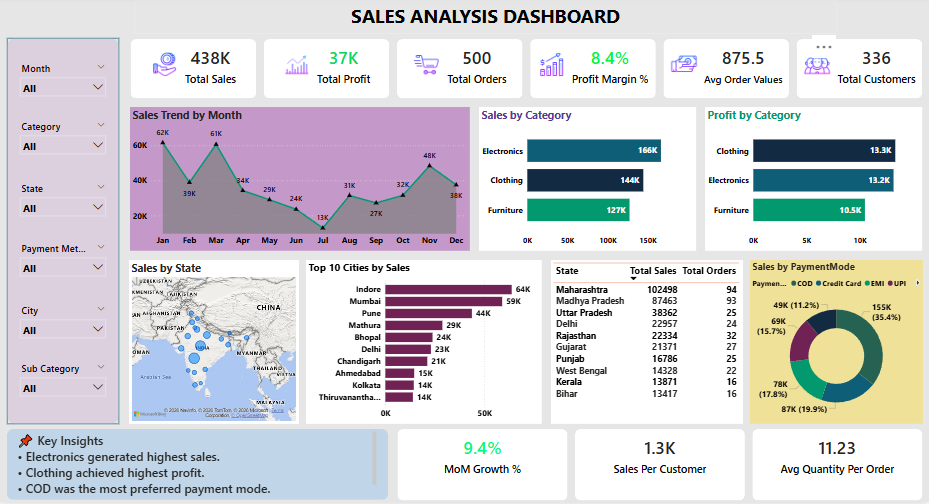

This screenshot's page, from the dashboard's own definition file:
{"tool":"powerbi","page":{"name":"Page 1","canvas":[1850,1000],"ordinal":0},"visuals":[{"type":"cardVisual","fields":{"Data":["Details.Total Sales","Details.Total Profit","Details.Total Orders","Details.Profit Margin %","Details.Avg Order Values","Orders (2).Total Customers"]},"box":[256.6,67.6,1585.4,133.3],"z":0},{"type":"textbox","box":[268.5,0,1398.4,67.6],"z":1000},{"type":"shape","box":[15.9,75.6,222.8,767.8],"z":2000},{"type":"slicer","fields":{"Values":["Calender.Month Name"]},"box":[31.8,117.4,191,83.5],"z":3000},{"type":"slicer","fields":{"Values":["Details.Category"]},"box":[31.8,232.7,191,83.5],"z":4000},{"type":"slicer","fields":{"Values":["Orders (2).State"]},"box":[31.8,356.1,191,83.5],"z":5000},{"type":"slicer","fields":{"Values":["Details.PaymentMode"]},"box":[31.8,475.4,191,83.5],"z":6000},{"type":"slicer","fields":{"Values":["Orders (2).City"]},"box":[31.8,598.8,191,83.5],"z":7000},{"type":"areaChart","title":"Sales Trend by Month","fields":{"Category":["Calender.Month Name"],"Y":["Sum(Details.Amount)"]},"box":[260.6,212.8,676.3,286.5],"z":8000},{"type":"clusteredBarChart","title":"Profit by Category","fields":{"Category":["Details.Category"],"Y":["Sum(Details.Profit)"]},"box":[1404.4,212.8,431.7,286.5],"z":9000},{"type":"clusteredBarChart","title":"Sales by Category","fields":{"Category":["Details.Category"],"Y":["Sum(Details.Amount)"]},"box":[954.8,212.8,431.7,286.5],"z":10000},{"type":"map","title":"Sales by State","fields":{"Category":["Orders (2).State"],"Size":["Sum(Details.Amount)"]},"box":[258.6,517.2,338.2,326.2],"z":11000},{"type":"clusteredBarChart","title":"Top 10 Cities by Sales","fields":{"Category":["Orders (2).City"],"Y":["Sum(Details.Amount)"]},"box":[610.7,517.2,469.5,326.2],"z":12000},{"type":"pivotTable","fields":{"Rows":["Orders (2).State"],"Values":["Details.Total Sales","Details.Total Orders"]},"box":[1098.1,517.2,381.9,326.2],"z":13000},{"type":"donutChart","title":" Sales by PaymentMode","fields":{"Category":["Details.PaymentMode"],"Y":["Details.Total Sales"]},"box":[1493.9,517.2,344.1,326.2],"z":14000},{"type":"cardVisual","fields":{"Data":["Details.MoM Growth %","Details.Sales Per Customer","Details.Avg Quantity Per Order"]},"box":[787.7,843.4,1054.3,157.2],"z":15000},{"type":"slicer","fields":{"Values":["Details.Sub-Category"]},"box":[31.8,714.1,191,83.5],"z":16000},{"type":"shape","box":[15.9,853.4,757.9,141.2],"z":17000},{"type":"textbox","box":[31.8,853.4,724.1,141.2],"z":18000}]}

Visuals, with their boxes in screenshot pixels (x1, y1, x2, y2), scaled from the page's 1850x1000 canvas onto the 929x504 screenshot:
cardVisual - Details.Total Sales x Details.Total Profit: select_region(129, 34, 925, 101)
textbox: select_region(135, 0, 837, 34)
shape: select_region(8, 38, 120, 425)
slicer - Calender.Month Name: select_region(16, 59, 112, 101)
slicer - Details.Category: select_region(16, 117, 112, 159)
slicer - Orders (2).State: select_region(16, 179, 112, 222)
slicer - Details.PaymentMode: select_region(16, 240, 112, 282)
slicer - Orders (2).City: select_region(16, 302, 112, 344)
"Sales Trend by Month" areaChart: select_region(131, 107, 470, 252)
"Profit by Category" clusteredBarChart: select_region(705, 107, 922, 252)
"Sales by Category" clusteredBarChart: select_region(479, 107, 696, 252)
"Sales by State" map: select_region(130, 261, 300, 425)
"Top 10 Cities by Sales" clusteredBarChart: select_region(307, 261, 542, 425)
pivotTable - Orders (2).State x Details.Total Sales: select_region(551, 261, 743, 425)
" Sales by PaymentMode" donutChart: select_region(750, 261, 923, 425)
cardVisual - Details.MoM Growth % x Details.Sales Per Customer: select_region(396, 425, 925, 503)
slicer - Details.Sub-Category: select_region(16, 360, 112, 402)
shape: select_region(8, 430, 389, 501)
textbox: select_region(16, 430, 380, 501)
